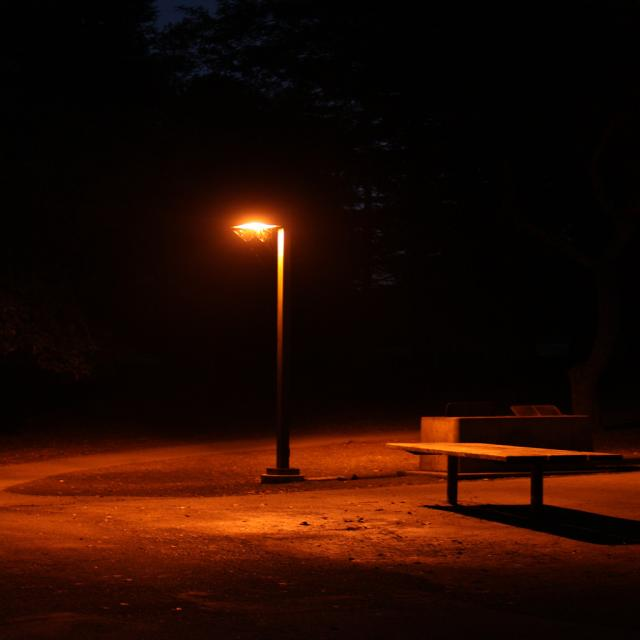Table: (395, 417, 602, 521)
